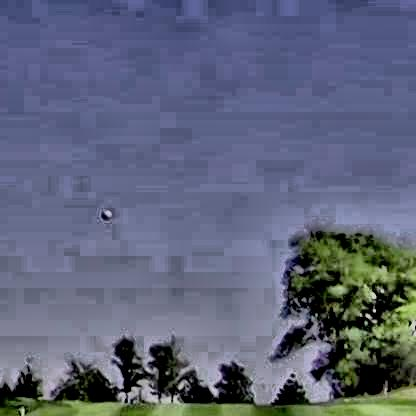golfball: (99, 206, 110, 217)
